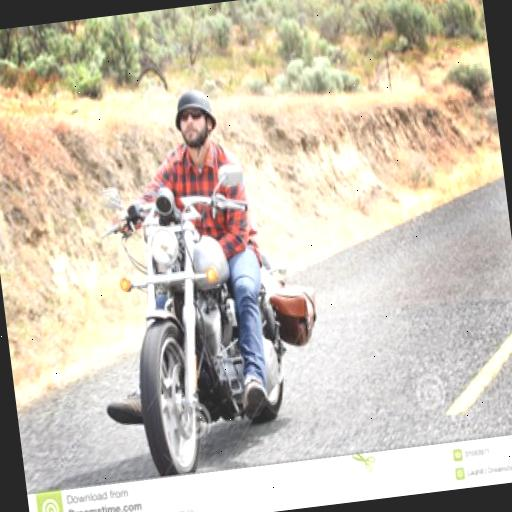helmet: (86, 65, 300, 470)
